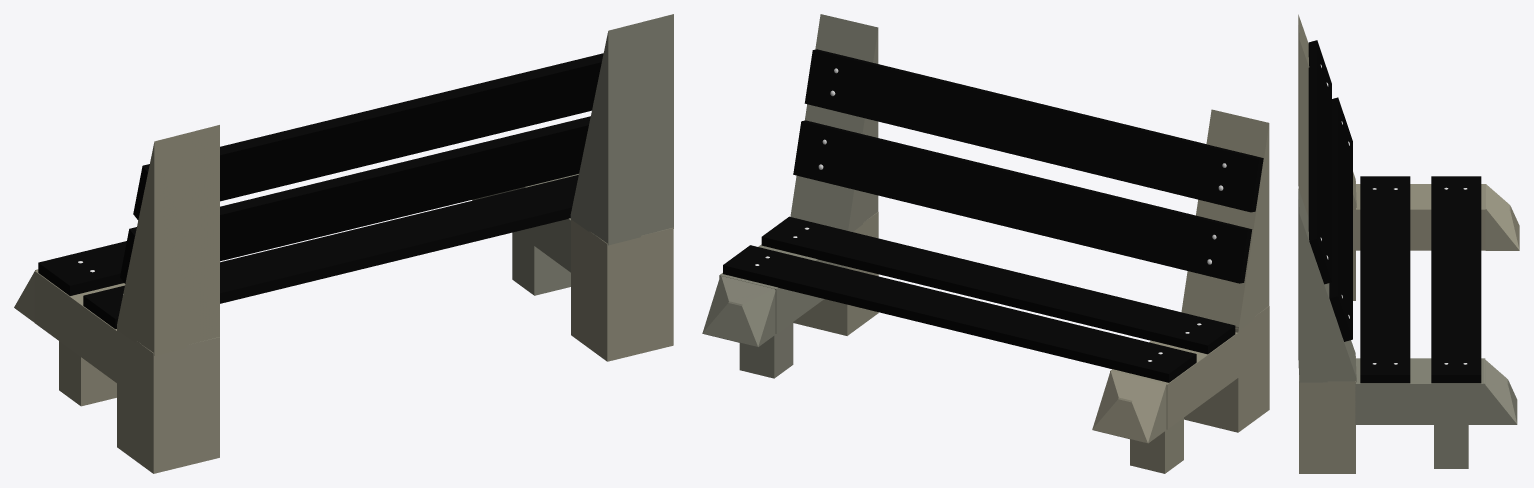
The model's file is Bench.glb.
3 views of the same model, side by side, from view 1: azimuth 30°, elevation 25°; view 2: azimuth 150°, elevation 25°; view 3: azimuth 270°, elevation 25° (orthographic). The views are drawn at different scales.
Visible parts, largest first — view 1: Cube.011, Cube.010, Cube.003, Cube.004, Cube.008, Cube.007, Cube.012, Cube.006, Cube.009, Cube.013, Cube.014, Cube.001; view 2: Cube.010, Cube.011, Cube.008, Cube.009, Cube.004, Cube.003, Cube.007, Cube.005, Cube.002, Cube.006, Cube.012, Cube.013 (+2 smaller); view 3: Cube.008, Cube.009, Cube.001, Cube.003, Cube.012, Cube.011, Cube.010, Cube.006, Cube.004, Cube.005, Cube.002, Cube.013 (+1 smaller).
Part boxes in pixels (x1,y1,x2,y2): Cube.011: (133,53,603,220); Cube.010: (120,116,590,283); Cube.003: (570,14,673,245); Cube.004: (117,125,219,356); Cube.008: (83,174,578,329); Cube.007: (117,330,219,473); Cube.012: (571,219,673,361); Cube.006: (34,270,125,383); Cube.009: (38,241,126,295); Cube.013: (512,232,570,295); Cube.014: (59,341,116,406); Cube.001: (489,174,578,272); Cube.010: (793,120,1252,283); Cube.011: (804,49,1263,212); Cube.008: (761,216,1235,354); Cube.009: (723,245,1196,382); Cube.004: (1181,109,1269,330); Cube.003: (790,14,878,231); Cube.007: (1184,306,1269,432); Cube.005: (1092,370,1166,443); Cube.002: (702,274,776,347); Cube.006: (1110,332,1238,429); Cube.012: (793,211,878,335); Cube.013: (739,322,793,378); Cube.008: (1360,176,1410,383); Cube.009: (1431,176,1481,383); Cube.001: (1355,358,1485,424); Cube.003: (1298,189,1356,382); Cube.012: (1299,356,1355,473); Cube.011: (1308,40,1331,284); Cube.010: (1329,97,1352,341); Cube.006: (1355,184,1485,250); Cube.004: (1298,14,1356,208); Cube.005: (1485,184,1519,250); Cube.002: (1483,358,1517,424); Cube.013: (1434,425,1468,468).
Bounding box in the file's own units: 5.83 × 3.56 × 2.73.
